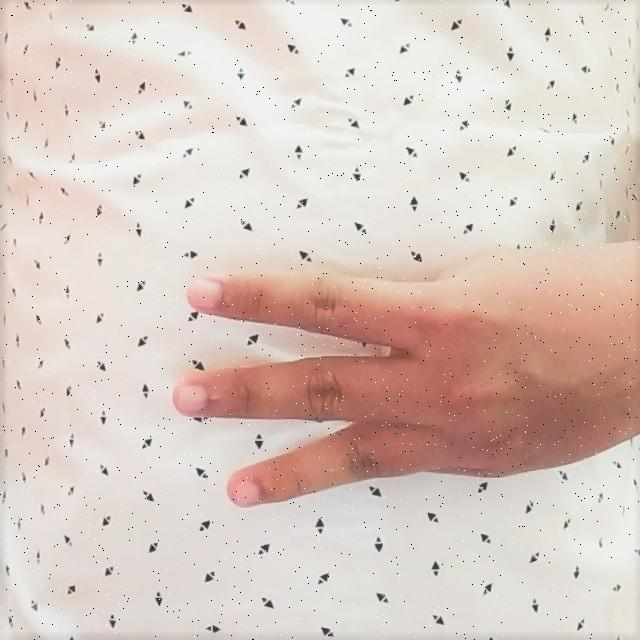E: (166, 228, 614, 531)
